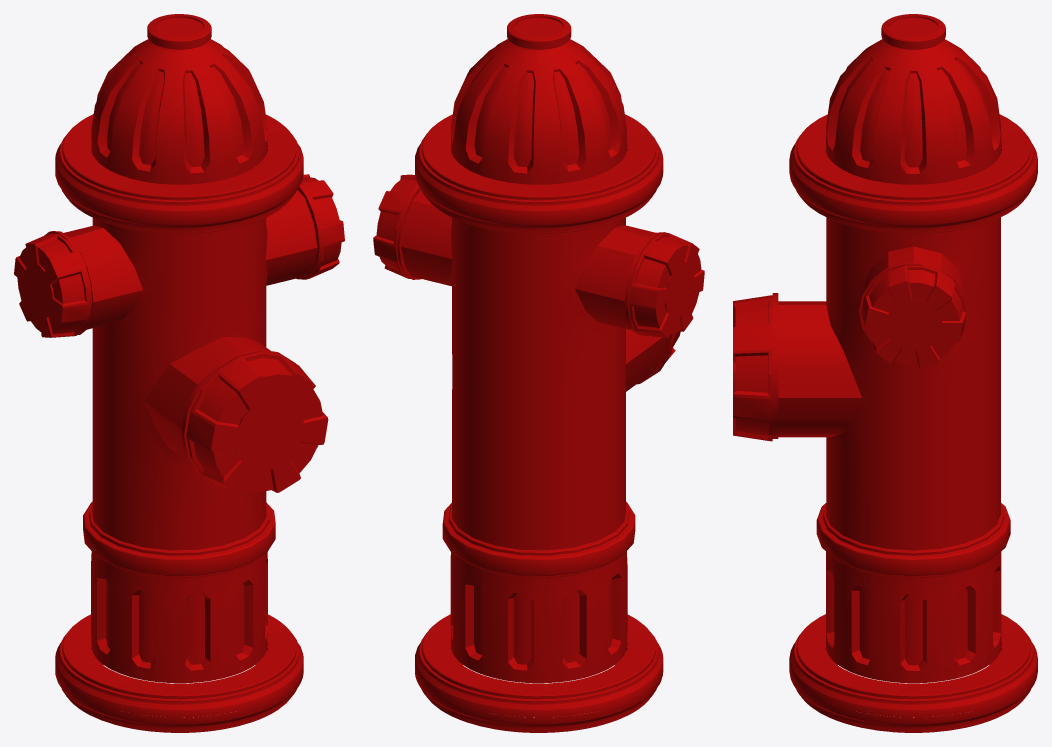
Rendered from fireplug_3bd78698.glb.
The picture shows the model from 3 angles, left to right: view 1: azimuth 30°, elevation 25°; view 2: azimuth 150°, elevation 25°; view 3: azimuth 270°, elevation 25°; orthographic projection.
Parts seen in each view (by area): view 1: Object004_01 - Default_0; view 2: Object004_01 - Default_0; view 3: Object004_01 - Default_0.
Part boxes in pixels (x1=…): Object004_01 - Default_0: x1=14, y1=14, x2=344, y2=732; Object004_01 - Default_0: x1=373, y1=14, x2=704, y2=732; Object004_01 - Default_0: x1=733, y1=14, x2=1037, y2=732.
Size of the model in its own units: 2239 by 4979 by 2093.
1 material, 1 textured.
